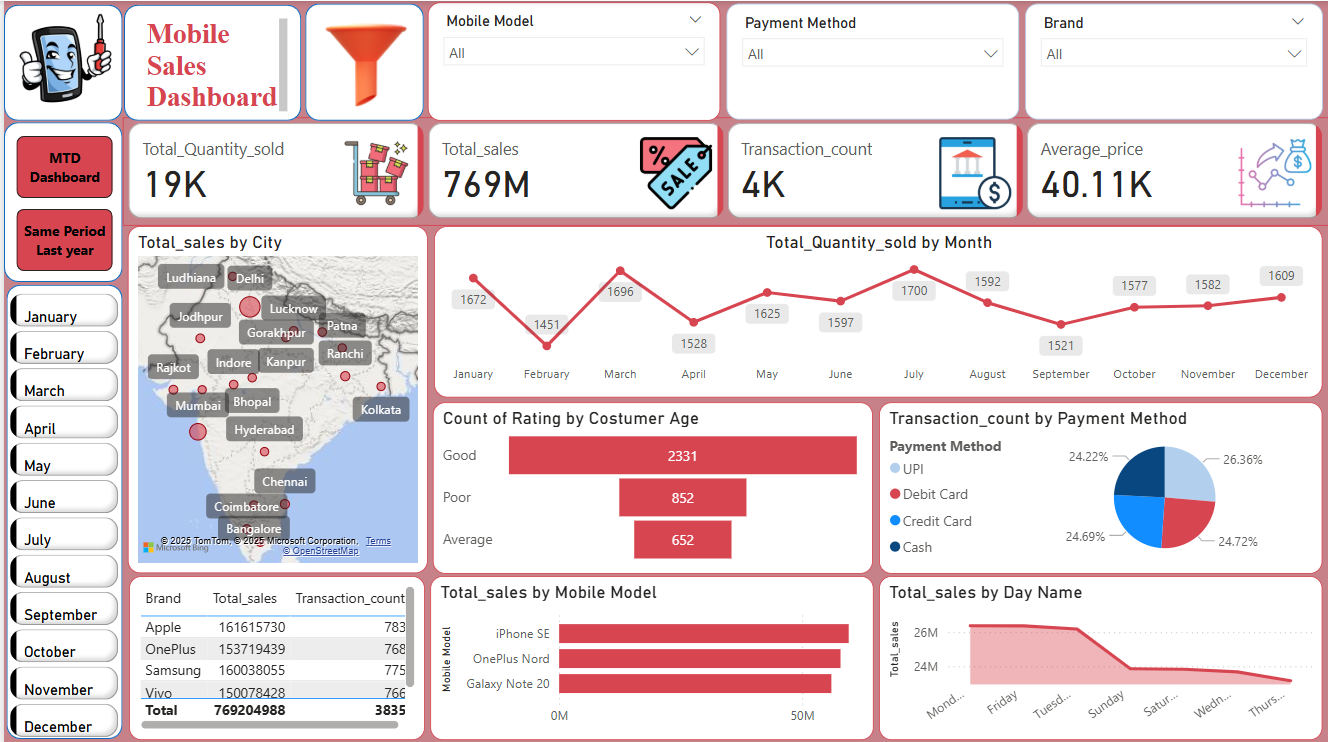

Layout of this report page (visuals, bound fields, positions):
{"tool":"powerbi","page":{"name":"Dashboard","canvas":[1280,720],"ordinal":0},"visuals":[{"type":"shape","box":[0,3.6,114.6,112.2],"z":0},{"type":"image","box":[2.4,0,114.6,112.2],"z":1000},{"type":"shape","box":[0,117,114.6,154.4],"z":2000},{"type":"shape","box":[2.4,273.9,112.2,439.1],"z":3000},{"type":"advancedSlicerVisual","fields":{"Values":["Custom_Calendar.Date.Variation.Date Hierarchy.Month"]},"box":[1.2,277.5,114.6,442.8],"z":4000},{"type":"cardVisual","fields":{"Data":["Mobile_sales_data.Total_Quantity_sold","Mobile_sales_data.Total_sales","Mobile_sales_data.Transaction_count","Mobile_sales_data.Average_price"]},"box":[114.6,112.2,1165.4,105],"z":5000},{"type":"slicer","fields":{"Values":["Mobile_sales_data.Mobile Model"]},"box":[409,1.2,282.3,114.6],"z":6000},{"type":"slicer","fields":{"Values":["Mobile_sales_data.Payment Method"]},"box":[697.3,2.4,282.3,112.2],"z":7000},{"type":"slicer","fields":{"Values":["Mobile_sales_data.Brand"]},"box":[985.7,2.4,287.1,112.2],"z":8000},{"type":"shape","box":[290.8,2.4,114.6,113.4],"z":9000},{"type":"image","box":[224.4,6,249.7,109.8],"z":10000},{"type":"shape","box":[115.8,3.6,171.3,112.2],"z":11000},{"type":"textbox","box":[132.7,12.1,146,100.1],"z":12000},{"type":"map","fields":{"Category":["Mobile_sales_data.City"],"Size":["Mobile_sales_data.Total_sales"]},"box":[119.4,217.2,289.5,335.4],"z":13000},{"type":"lineChart","fields":{"Category":["Custom_Calendar.Date.Variation.Date Hierarchy.Month"],"Y":["Mobile_sales_data.Total_Quantity_sold"]},"box":[415,217.2,857.8,165.3],"z":14000},{"type":"funnel","title":"Count of Rating by Costumer Age","fields":{"Category":["Mobile_sales_data.Rating_status"],"Y":["CountNonNull(Mobile_sales_data.Customer Age)"]},"box":[413.8,387.3,424.7,165.3],"z":15000},{"type":"pieChart","fields":{"Y":["Mobile_sales_data.Transaction_count"],"Category":["Mobile_sales_data.Payment Method"]},"box":[844.5,387.3,428.3,165.3],"z":16000},{"type":"clusteredBarChart","fields":{"Category":["Mobile_sales_data.Mobile Model"],"Y":["Mobile_sales_data.Total_sales"]},"box":[411.4,555,428.3,158],"z":17000},{"type":"areaChart","fields":{"Category":["Custom_Calendar.Day Name"],"Y":["Mobile_sales_data.Total_sales"]},"box":[844.5,555,428.3,158],"z":18000},{"type":"tableEx","fields":{"Values":["Mobile_sales_data.Brand","Mobile_sales_data.Total_sales","Mobile_sales_data.Transaction_count"]},"box":[120.6,555,285.9,158],"z":19000},{"type":"pageNavigator","box":[12.3,130.4,93.3,130.4],"z":20000}]}

Visuals, with their boxes in screenshot pixels (x1, y1, x2, y2), scaled from the page's 1280x720 canvas onto the 1328x742 screenshot:
shape: bbox=(0, 4, 119, 119)
image: bbox=(2, 0, 121, 116)
shape: bbox=(0, 121, 119, 280)
shape: bbox=(2, 282, 119, 735)
advancedSlicerVisual - Custom_Calendar.Date.Variation.Date Hierarchy.Month: bbox=(1, 286, 120, 741)
cardVisual - Mobile_sales_data.Total_Quantity_sold x Mobile_sales_data.Total_sales: bbox=(119, 116, 1327, 224)
slicer - Mobile_sales_data.Mobile Model: bbox=(424, 1, 717, 119)
slicer - Mobile_sales_data.Payment Method: bbox=(723, 2, 1016, 118)
slicer - Mobile_sales_data.Brand: bbox=(1023, 2, 1321, 118)
shape: bbox=(302, 2, 421, 119)
image: bbox=(233, 6, 492, 119)
shape: bbox=(120, 4, 298, 119)
textbox: bbox=(138, 12, 289, 116)
map - Mobile_sales_data.City x Mobile_sales_data.Total_sales: bbox=(124, 224, 424, 569)
lineChart - Custom_Calendar.Date.Variation.Date Hierarchy.Month x Mobile_sales_data.Total_Quantity_sold: bbox=(431, 224, 1321, 394)
"Count of Rating by Costumer Age" funnel: bbox=(429, 399, 870, 569)
pieChart - Mobile_sales_data.Transaction_count x Mobile_sales_data.Payment Method: bbox=(876, 399, 1321, 569)
clusteredBarChart - Mobile_sales_data.Mobile Model x Mobile_sales_data.Total_sales: bbox=(427, 572, 871, 735)
areaChart - Custom_Calendar.Day Name x Mobile_sales_data.Total_sales: bbox=(876, 572, 1321, 735)
tableEx - Mobile_sales_data.Brand x Mobile_sales_data.Total_sales: bbox=(125, 572, 422, 735)
pageNavigator: bbox=(13, 134, 110, 269)
